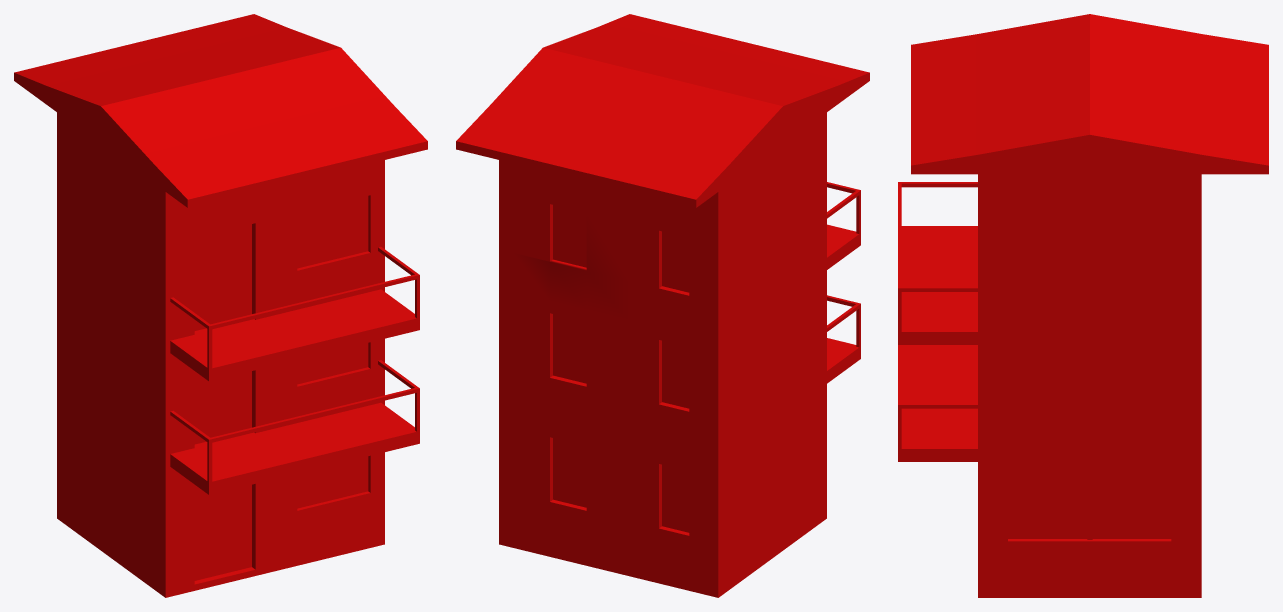
Rendered from house_2.fbx.
3 renders of one model, left to right at view 1: azimuth 30°, elevation 25°; view 2: azimuth 150°, elevation 25°; view 3: azimuth 270°, elevation 25°, orthographic. The views are drawn at different scales.
Parts seen in each view (by area): view 1: high_house; view 2: high_house; view 3: high_house.
Boxes of the visible parts, x1=… form: high_house: x1=14, y1=14, x2=427, y2=597; high_house: x1=456, y1=14, x2=869, y2=597; high_house: x1=898, y1=14, x2=1268, y2=597.
Size of the model in its own units: 1258 by 2275 by 1633.
